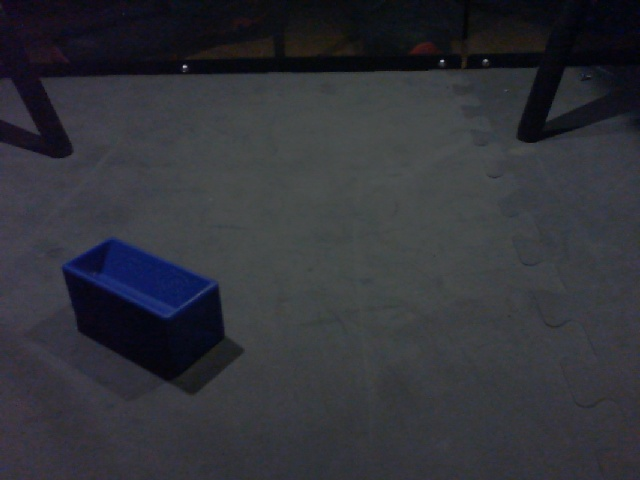BlueSample: (57, 233, 228, 384)
